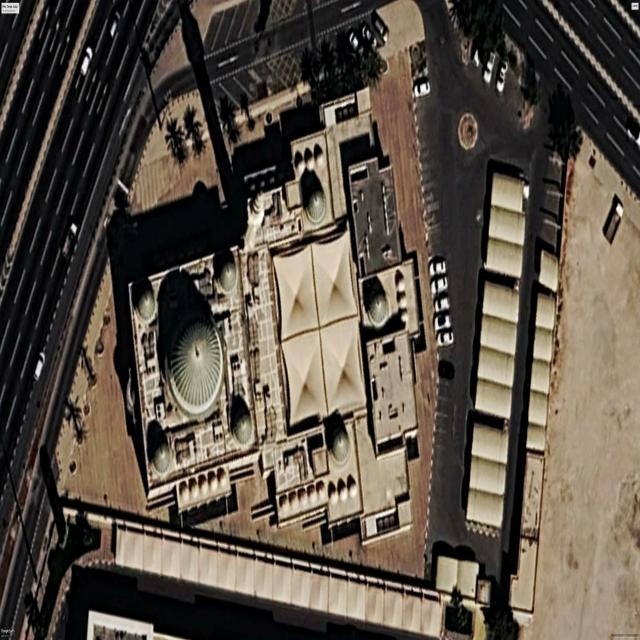mosque: (129, 88, 428, 547)
